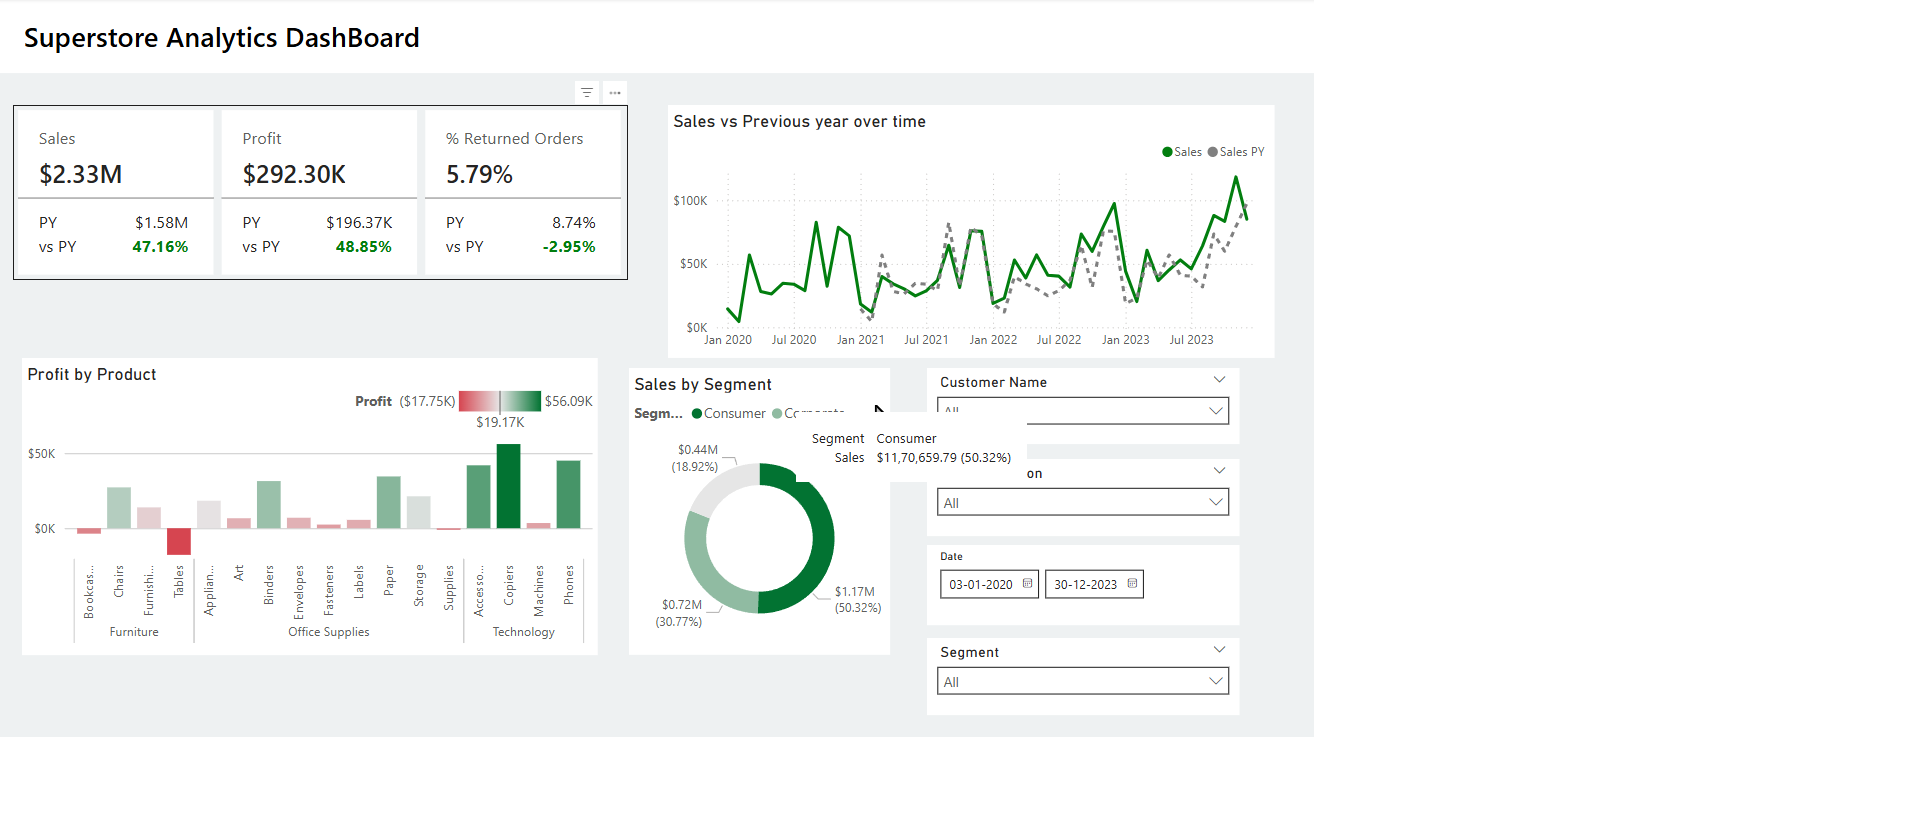

The dashboard page shown, as its layout file describes it:
{"tool":"powerbi","page":{"name":"Page 1","canvas":[1280,720],"ordinal":0},"visuals":[{"type":"cardVisual","fields":{"Data":["Key Measures.Sales","Key Measures.Profit","Key Measures.% Returned Orders"]},"box":[14.8,103.7,598.4,171],"z":0},{"type":"shape","box":[0,0,1280,73.3],"z":1000},{"type":"lineChart","title":"Sales vs Previous year over time","fields":{"Y":["Key Measures.Sales","Key Measures.Sales PY"],"Category":["Date Table.Start of month "]},"box":[651.2,103.8,590,246.2],"z":2000},{"type":"columnChart","title":"Profit by Product","fields":{"Category":["Orders.Category","Orders.Sub-Category"],"Y":["Key Measures.Profit"]},"box":[23.8,350,560,288.8],"z":3000},{"type":"donutChart","title":"Sales by Segment","fields":{"Y":["Key Measures.Sales"],"Category":["Orders.Segment"]},"box":[613.8,360,253.8,278.8],"z":3001},{"type":"slicer","fields":{"Values":["Orders.Customer Name"]},"box":[903.8,360,303.8,73.8],"z":3002},{"type":"slicer","fields":{"Values":["Orders.Country/Region"]},"box":[903.8,448.8,303.8,75],"z":3003},{"type":"slicer","fields":{"Values":["Date Table.Date"]},"box":[903.8,532.5,303.8,77.5],"z":3004},{"type":"slicer","fields":{"Values":["Orders.Segment"]},"box":[903.8,622.5,303.8,75],"z":3005}]}

Visuals, with their boxes on the page's 1280x720 design canvas (x1, y1, x2, y2). These are canvas units, not pixel positions in the 1914x825 screenshot, which may show the page scaled, cropped or inside an application window:
cardVisual - Key Measures.Sales x Key Measures.Profit: l=15, t=104, r=613, b=275
shape: l=0, t=0, r=1280, b=73
"Sales vs Previous year over time" lineChart: l=651, t=104, r=1241, b=350
"Profit by Product" columnChart: l=24, t=350, r=584, b=639
"Sales by Segment" donutChart: l=614, t=360, r=868, b=639
slicer - Orders.Customer Name: l=904, t=360, r=1208, b=434
slicer - Orders.Country/Region: l=904, t=449, r=1208, b=524
slicer - Date Table.Date: l=904, t=532, r=1208, b=610
slicer - Orders.Segment: l=904, t=622, r=1208, b=698
